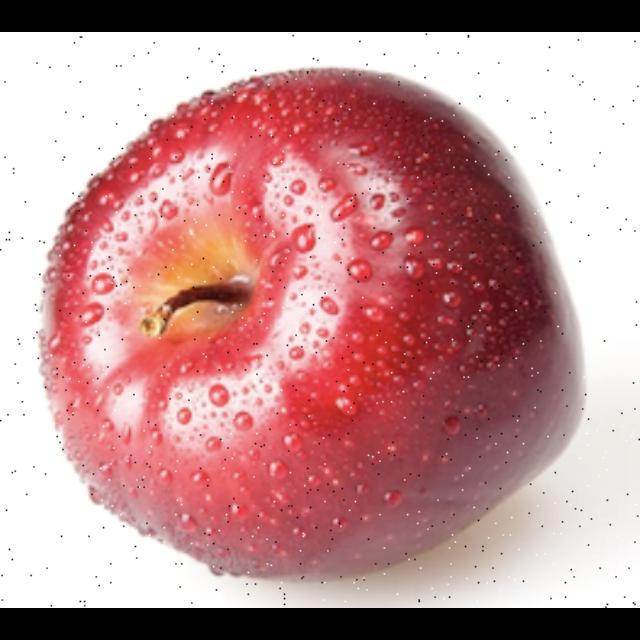Apel Segar: (11, 43, 612, 579)
